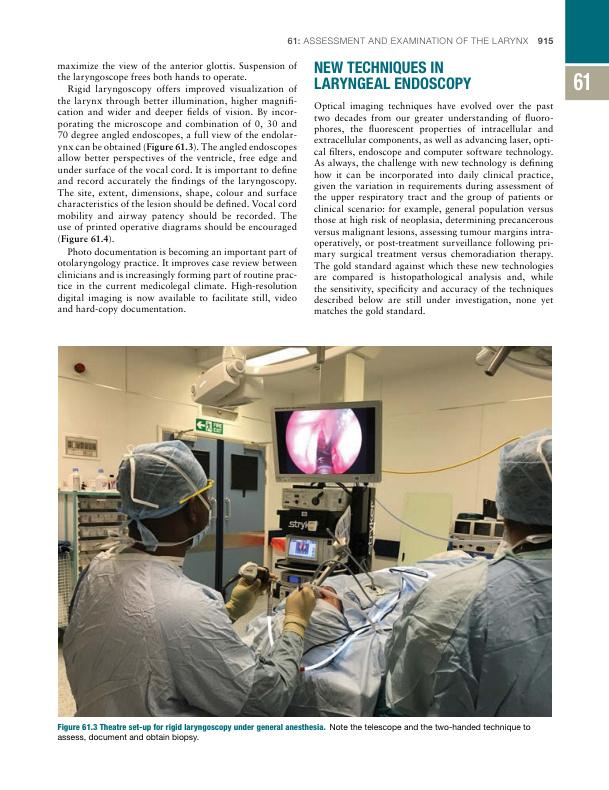caption: (56, 722, 532, 743)
header: (285, 35, 530, 46)
image: (57, 345, 552, 718)
section-heading: (313, 59, 473, 92)
text: (56, 60, 298, 315), (312, 99, 554, 318)
